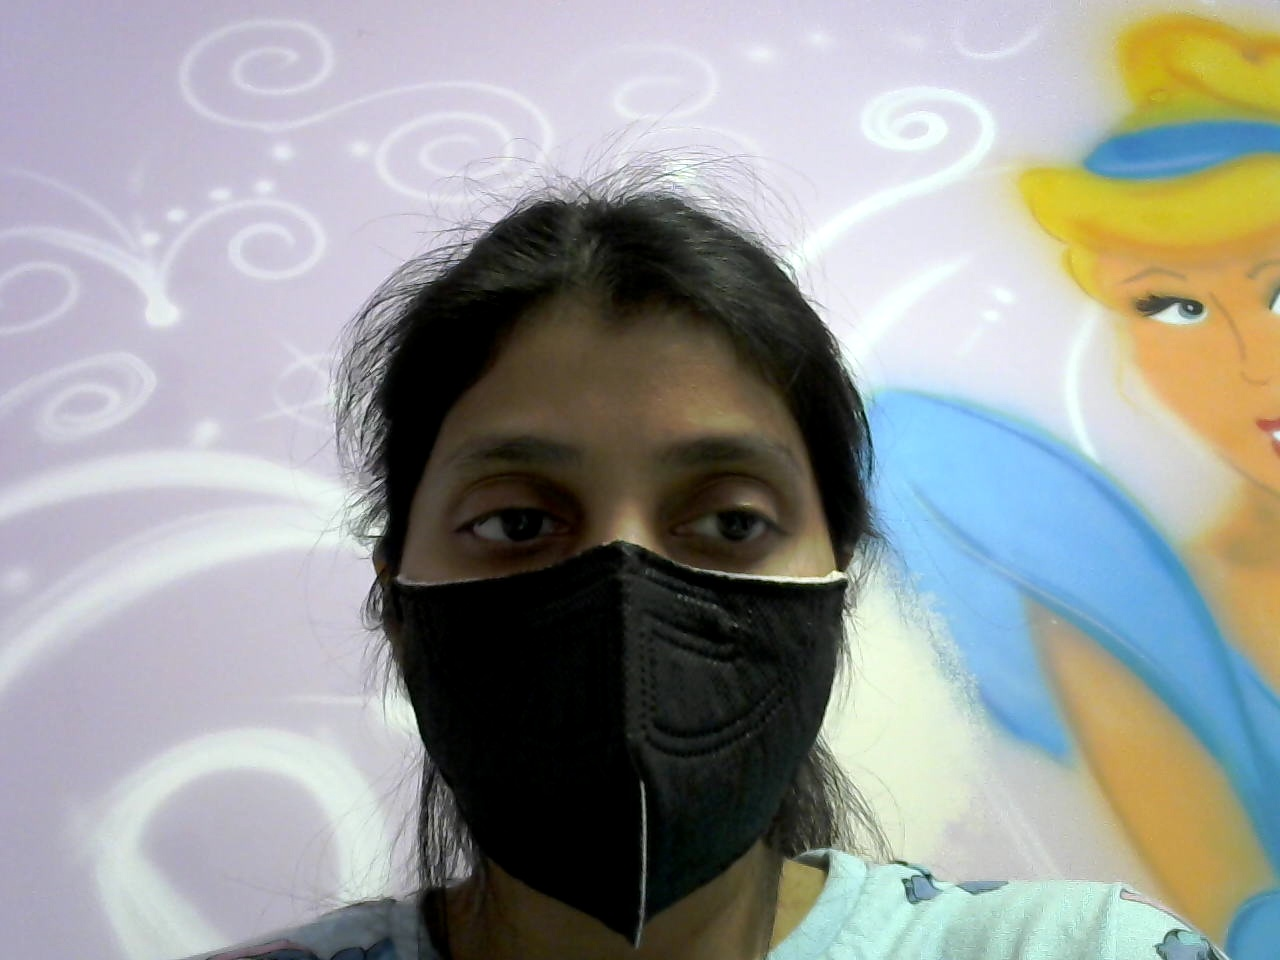mask: (363, 557, 859, 939)
